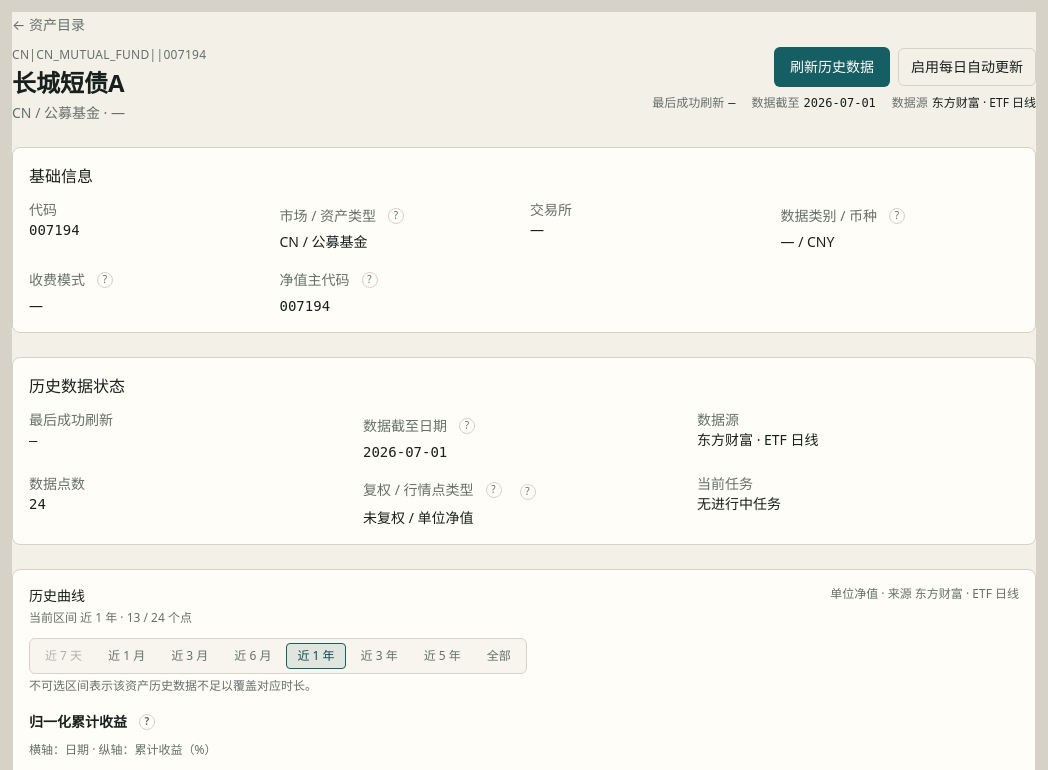
MarketAssetDetailPage automatic update › enables the current history dimension and renders the returned interval
The image size is (1048, 770).
Click the button "启用每日自动更新".
click(967, 67)  # box [898,48,1036,86]
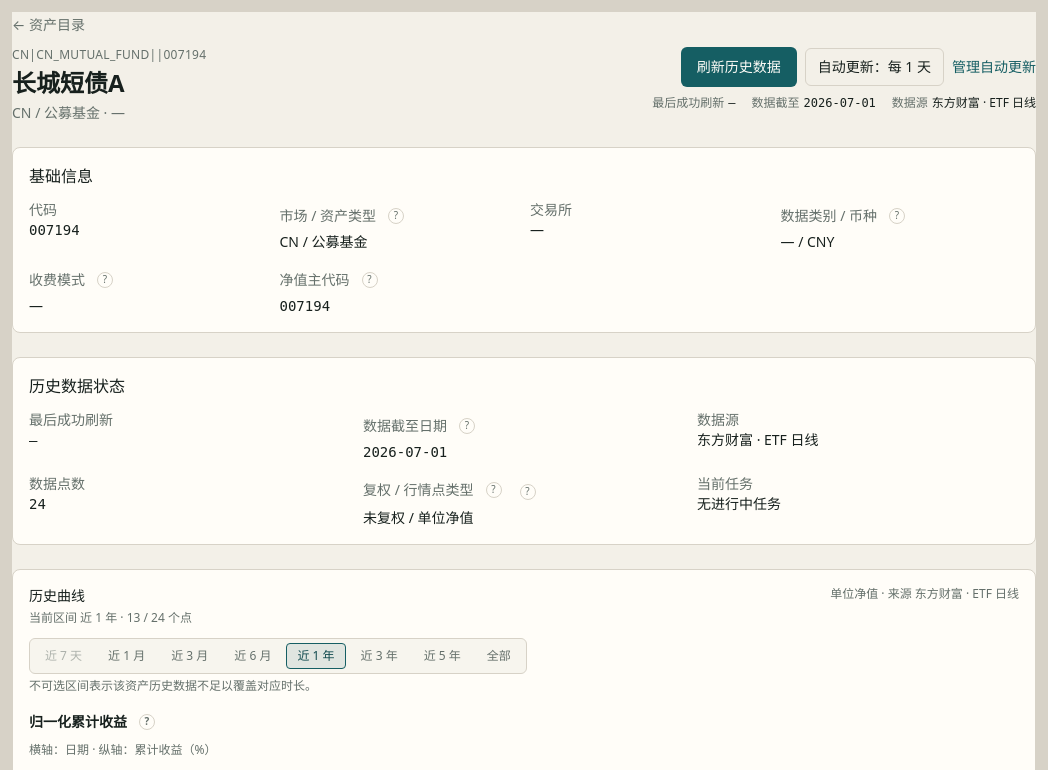
expect the button "自动更新：每 1 天" is shown: met, box [805,48,944,86]
